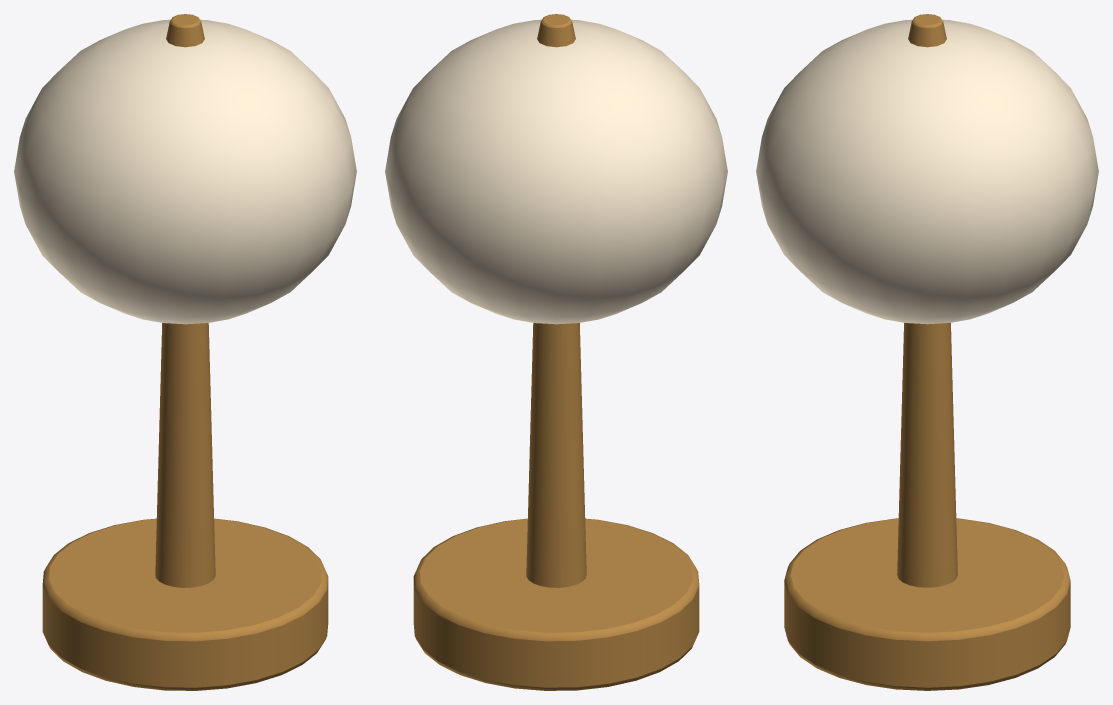
File: opal-lamp.glb
3 views of the same model, side by side, from view 1: azimuth 30°, elevation 25°; view 2: azimuth 150°, elevation 25°; view 3: azimuth 270°, elevation 25° (orthographic).
Visible parts, largest first — view 1: Opal globe, Weighted lamp base; view 2: Opal globe, Weighted lamp base; view 3: Opal globe, Weighted lamp base.
Part boxes in pixels (x1,y1,x2,y2): Opal globe: [14, 19, 356, 324]; Weighted lamp base: [42, 14, 328, 690]; Opal globe: [385, 19, 727, 324]; Weighted lamp base: [413, 14, 699, 690]; Opal globe: [756, 19, 1098, 324]; Weighted lamp base: [784, 14, 1070, 690].
Bounding box in the file's own units: 0.268 × 0.529 × 0.268.
